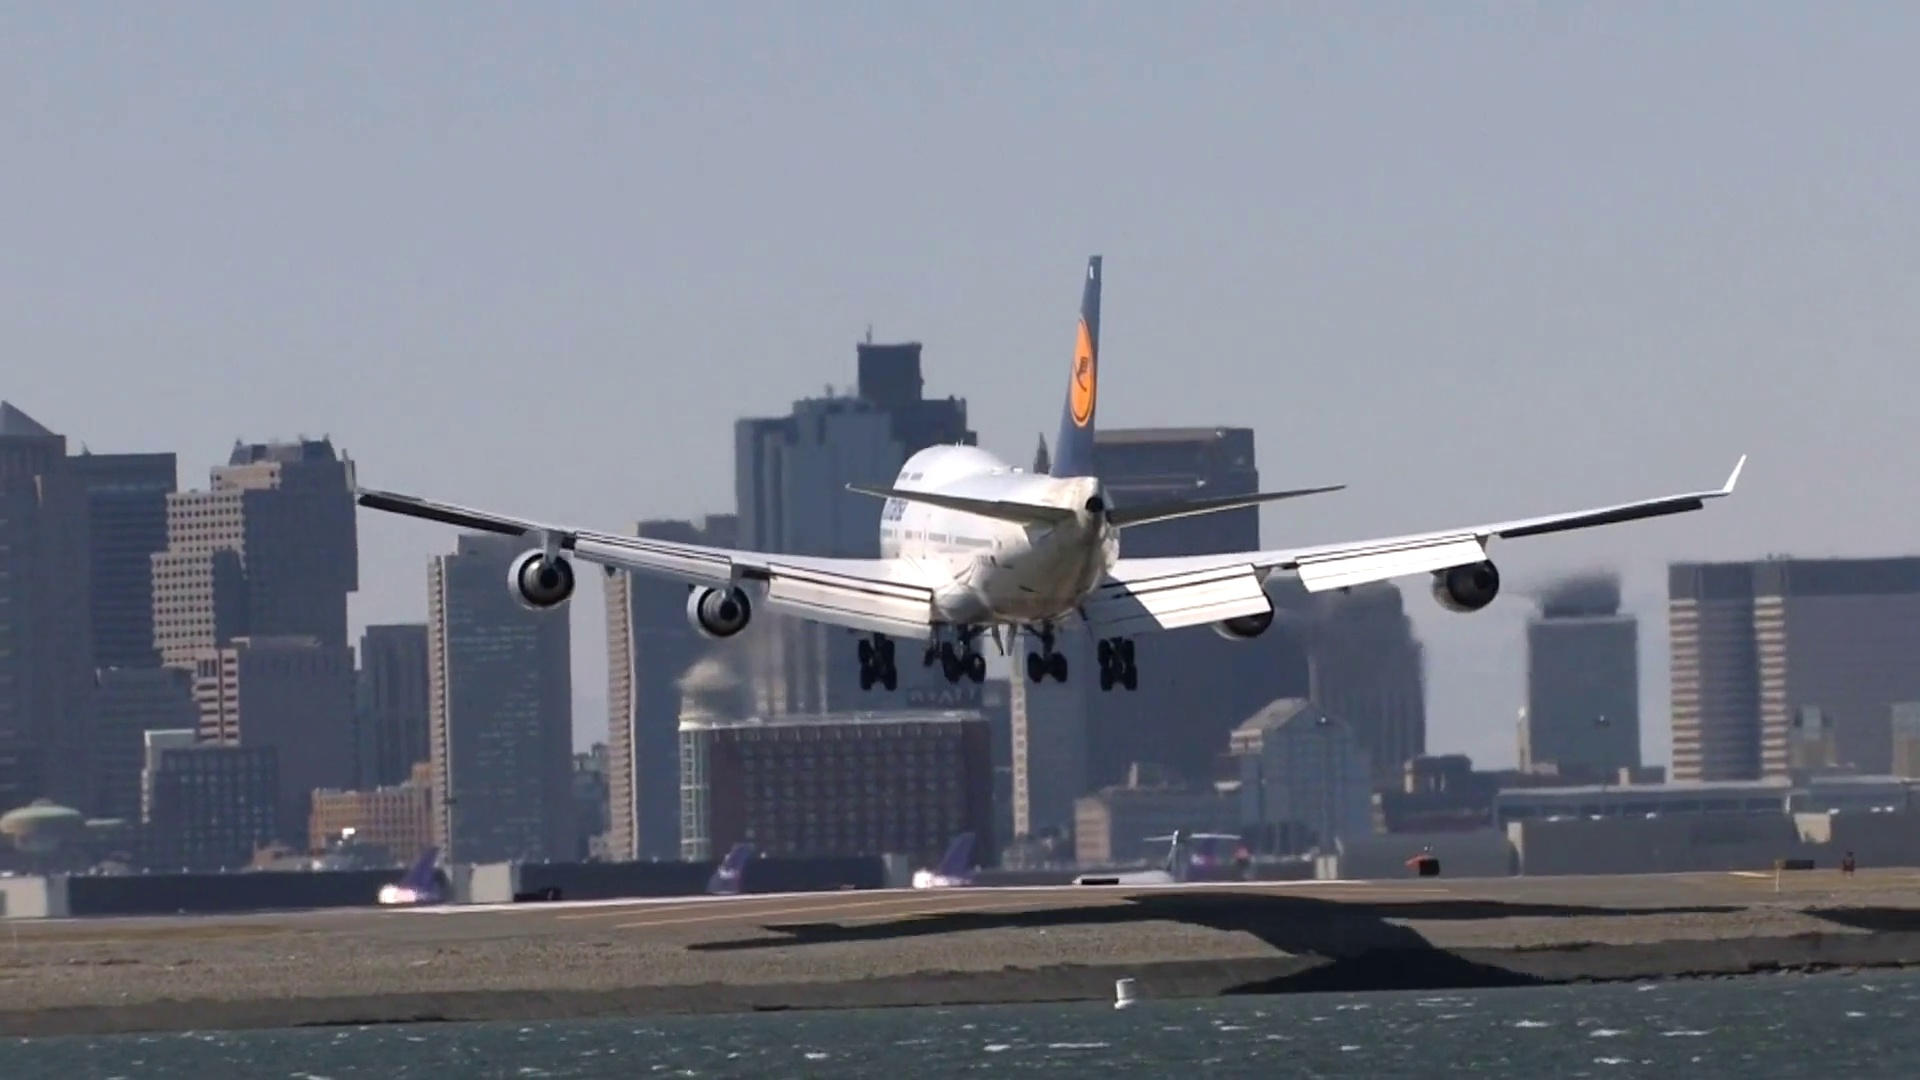plane: (348, 253, 1749, 692)
